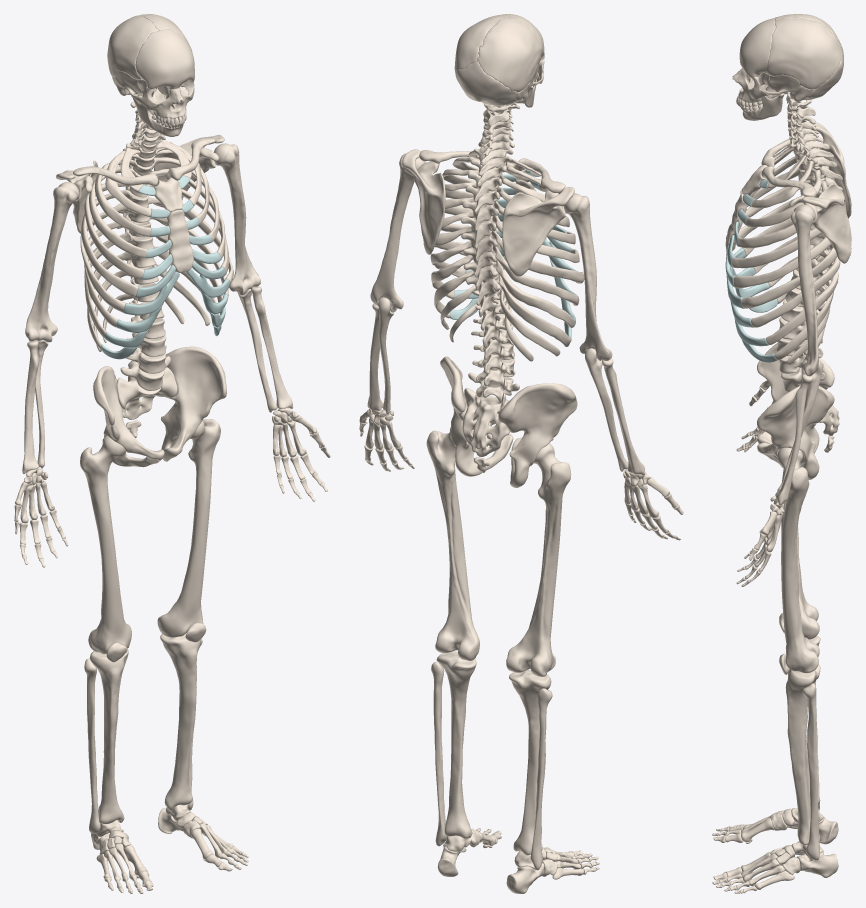
Rendered from skeleton.glb.
3 views of the same model, side by side, from view 1: azimuth 30°, elevation 25°; view 2: azimuth 150°, elevation 25°; view 3: azimuth 270°, elevation 25° (orthographic). The views are drawn at different scales.
Parts seen in each view (by area): view 1: Femur.r, Femur.l, Hip bone.l, Tibia.l, Tibia.r, Frontal bone, Humerus.r, Humerus.l, Hip bone.r, Parietal bone right, Sacrum, Fibula.r (+17 smaller); view 2: Femur.r, Femur.l, Hip bone.r, Scapula.r., Parietal bone right, Tibia.l, Tibia.r, Humerus.r, Scapula.l., Humerus.l, Hip bone.l, Sacrum (+15 smaller); view 3: Femur.l, Parietal bone left, Hip bone.l, Tibia.l, Humerus.l, Scapula.l., Fibula.l, Frontal bone, Hip bone.r, Radius.l, Rib (7th).l, Rib (6th).l (+27 smaller).
Part boxes in pixels (x1,y1,x2,y2): Femur.r: (80,435,131,654); Femur.l: (157,419,220,637); Hip bone.l: (161,346,226,461); Tibia.l: (160,633,201,810); Tibia.r: (89,649,128,824); Frontal bone: (135,29,194,89); Humerus.r: (25,182,79,342); Humerus.l: (214,143,260,295); Hip bone.r: (93,366,164,467); Parietal bone right: (107,15,158,79); Sacrum: (116,367,177,419); Fibula.r: (84,658,100,833); Femur.r: (506,443,571,676); Femur.l: (426,427,479,660); Hip bone.r: (498,383,577,487); Scapula.r.: (502,187,574,276); Parietal bone right: (477,16,542,92); Tibia.l: (436,651,476,838); Tibia.r: (509,670,551,855); Humerus.r: (563,193,612,360); Scapula.l.: (402,149,445,254); Humerus.l: (370,153,425,312); Hip bone.l: (440,356,513,476); Sacrum: (462,387,509,456); Femur.l: (777,447,819,673); Parietal bone left: (765,17,841,89); Hip bone.l: (757,385,834,479); Tibia.l: (785,664,820,845); Humerus.l: (790,204,818,376); Scapula.l.: (789,183,851,263); Fibula.l: (802,683,819,860); Frontal bone: (739,17,775,77); Hip bone.r: (757,343,834,453); Radius.l: (775,374,813,505); Rib (7th).l: (741,247,837,308); Rib (6th).l: (733,236,831,288).
Size of the model in its own units: 0.671 by 1.7 by 0.2542.
